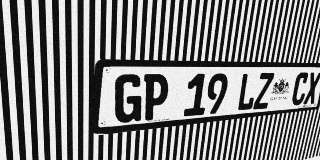1: (184, 73, 209, 117)
9: (205, 73, 229, 115)
C: (290, 72, 310, 106)
G: (114, 74, 143, 124)
L: (236, 73, 259, 111)
P: (142, 74, 170, 121)
X: (303, 72, 320, 105)
Z: (253, 73, 274, 110)
